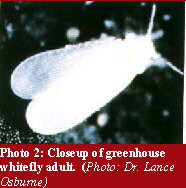whitefly: (11, 5, 184, 136)
